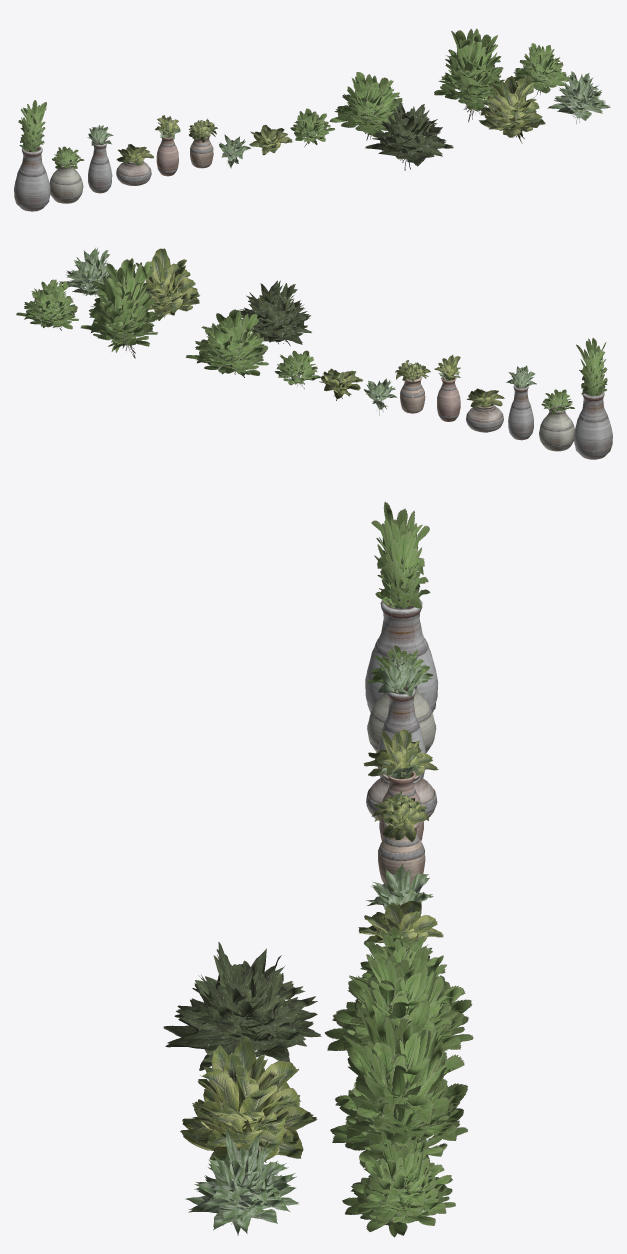
The model's file is Ground_Plants_1A.fbx.
3 views of the same model, one above another, from view 1: azimuth 30°, elevation 25°; view 2: azimuth 150°, elevation 25°; view 3: azimuth 270°, elevation 25° (orthographic). The views are drawn at different scales.
Visible parts, largest first — view 1: Ground_Plant_1A8.001, Plant_Vase_1A1, Ground_Plant_1A7.001, Ground_Plant_1A8, Ground_Plant_1A6.001, Ground_Plant_1A9, Ground_Plant_1A9.001, Ground_Plant_1A6, Ground_Plant_1A7, Plant_Vase_1A1.001, Plant_Vase_1A2, Ground_Plant_1A4.001 (+18 smaller); view 2: Ground_Plant_1A8.001, Plant_Vase_1A1, Ground_Plant_1A8, Ground_Plant_1A6.001, Ground_Plant_1A7.001, Ground_Plant_1A6, Ground_Plant_1A9.001, Ground_Plant_1A7, Plant_Vase_1A2, Ground_Plant_1A4.001, Plant_Vase_1A1.001, Ground_Plant_1A9 (+18 smaller); view 3: Ground_Plant_1A8.001, Ground_Plant_1A8, Ground_Plant_1A7.001, Ground_Plant_1A9.001, Plant_Vase_1A1, Ground_Plant_1A9, Ground_Plant_1A6.001, Ground_Plant_1A7, Ground_Plant_1A4.001, Ground_Plant_1A5.001, Ground_Plant_1A6, Plant_Vase_1A1.001 (+12 smaller).
Part boxes in pixels (x1,y1,x2,y2): Ground_Plant_1A8.001: [434, 28, 504, 122]; Plant_Vase_1A1: [14, 100, 50, 211]; Ground_Plant_1A7.001: [366, 101, 452, 167]; Ground_Plant_1A8: [434, 29, 503, 120]; Ground_Plant_1A6.001: [330, 72, 405, 139]; Ground_Plant_1A9: [479, 76, 545, 141]; Ground_Plant_1A9.001: [479, 76, 545, 143]; Ground_Plant_1A6: [329, 75, 405, 140]; Ground_Plant_1A7: [365, 105, 453, 170]; Plant_Vase_1A1.001: [14, 100, 50, 211]; Plant_Vase_1A2: [49, 147, 84, 203]; Ground_Plant_1A4.001: [513, 43, 570, 92]; Ground_Plant_1A8.001: [81, 258, 157, 358]; Plant_Vase_1A1: [574, 338, 612, 459]; Ground_Plant_1A8: [80, 263, 157, 357]; Ground_Plant_1A6.001: [186, 309, 268, 377]; Ground_Plant_1A7.001: [239, 280, 311, 346]; Ground_Plant_1A6: [185, 313, 268, 377]; Ground_Plant_1A9.001: [136, 248, 199, 319]; Ground_Plant_1A7: [237, 280, 311, 344]; Plant_Vase_1A2: [539, 389, 574, 451]; Ground_Plant_1A4.001: [16, 279, 78, 330]; Plant_Vase_1A1.001: [574, 338, 612, 459]; Ground_Plant_1A9: [135, 252, 199, 320]; Ground_Plant_1A8.001: [330, 991, 467, 1162]; Ground_Plant_1A8: [332, 1001, 467, 1167]; Ground_Plant_1A7.001: [164, 942, 320, 1066]; Ground_Plant_1A9.001: [181, 1037, 316, 1160]; Plant_Vase_1A1: [365, 502, 438, 712]; Ground_Plant_1A9: [180, 1046, 317, 1162]; Ground_Plant_1A6.001: [325, 941, 473, 1051]; Ground_Plant_1A7: [163, 948, 321, 1070]; Ground_Plant_1A4.001: [342, 1131, 455, 1236]; Ground_Plant_1A5.001: [185, 1129, 298, 1233]; Ground_Plant_1A6: [326, 946, 472, 1050]; Plant_Vase_1A1.001: [365, 502, 437, 712].
Bounding box in the file's own units: 1636 × 378 × 448.
